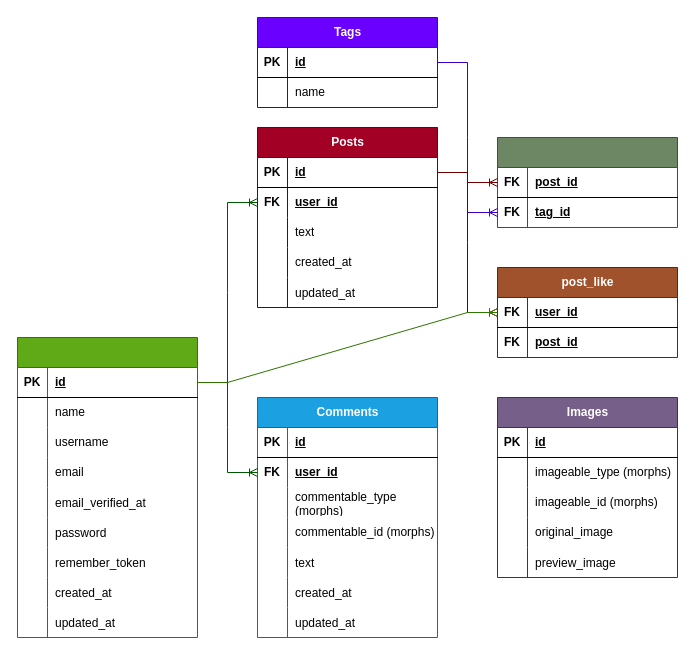
Some shapes in this 695 by 655 pixel diagram are drawn without their labels. Each missing label, with the box of its shape:
post_tag: (496, 136, 678, 228)
Users: (16, 336, 198, 638)
